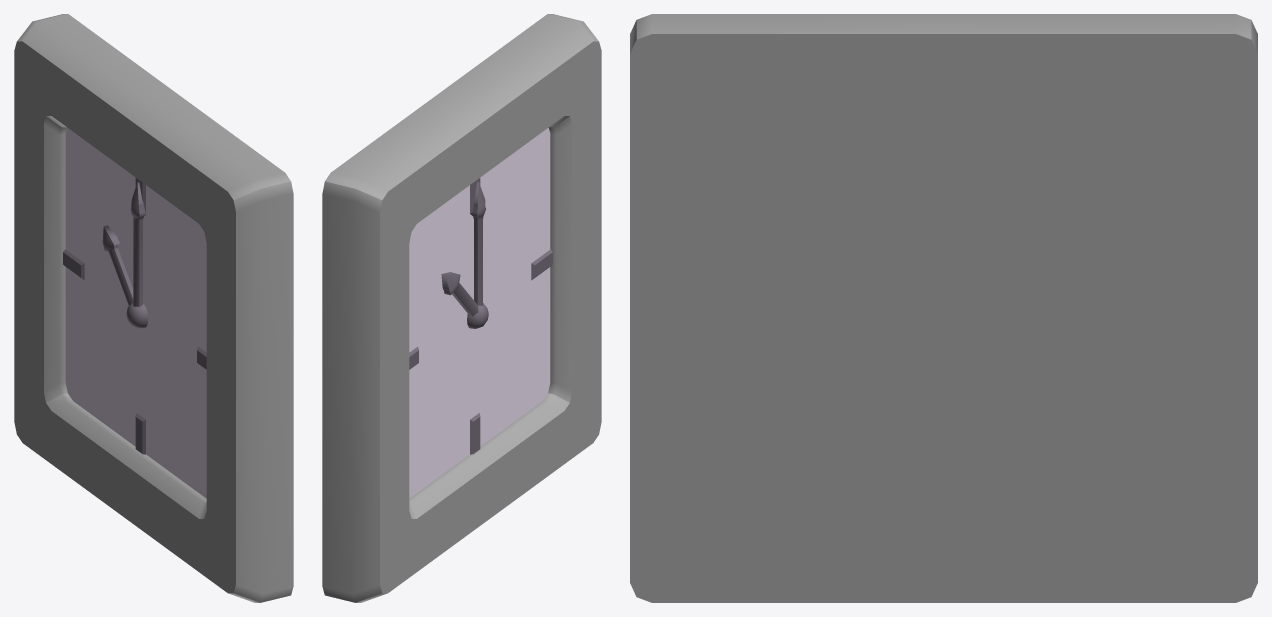
The model's file is Clock_02.fbx.
3 renders of one model, left to right at view 1: azimuth 30°, elevation 25°; view 2: azimuth 150°, elevation 25°; view 3: azimuth 270°, elevation 25°, orthographic. The views are drawn at different scales.
Parts seen in each view (by area): view 1: Clock_02; view 2: Clock_02; view 3: Clock_02.
Boxes of the visible parts, x1=… form: Clock_02: x1=14, y1=14, x2=293, y2=602; Clock_02: x1=322, y1=14, x2=601, y2=602; Clock_02: x1=630, y1=14, x2=1257, y2=602.
Size of the model in its own units: 9.26 by 72.38 by 72.38.
Materials: 2 (1 with a texture image).
